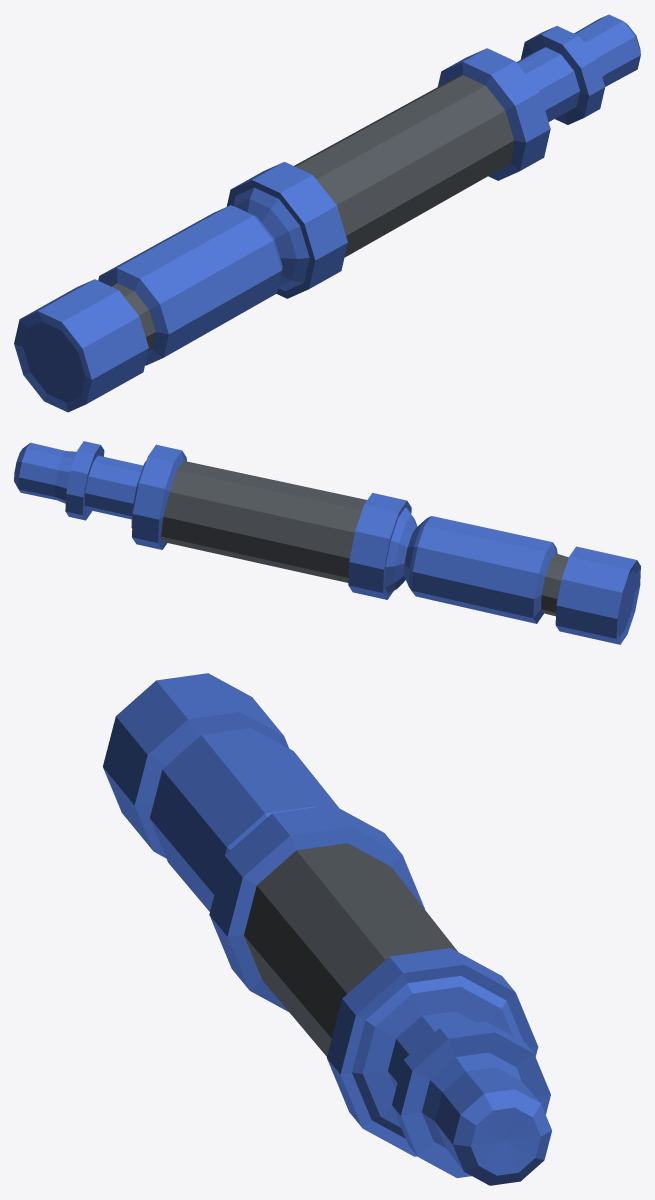
File: Fighter_03_Pipes_03_Blue.fbx
3 renders of one model, top to bottom at view 1: azimuth 30°, elevation 25°; view 2: azimuth 150°, elevation 25°; view 3: azimuth 270°, elevation 25°, orthographic. The views are drawn at different scales.
Visible parts, largest first — view 1: Fighter_03_Pipes_03_Blue; view 2: Fighter_03_Pipes_03_Blue; view 3: Fighter_03_Pipes_03_Blue.
Boxes of the visible parts, x1,y1,x2,y2 form: Fighter_03_Pipes_03_Blue: [14, 14, 640, 412]; Fighter_03_Pipes_03_Blue: [14, 441, 640, 644]; Fighter_03_Pipes_03_Blue: [103, 673, 551, 1185].
Size of the model in its own units: 235 by 55.14 by 83.95.
Materials: 1 (1 with a texture image).
